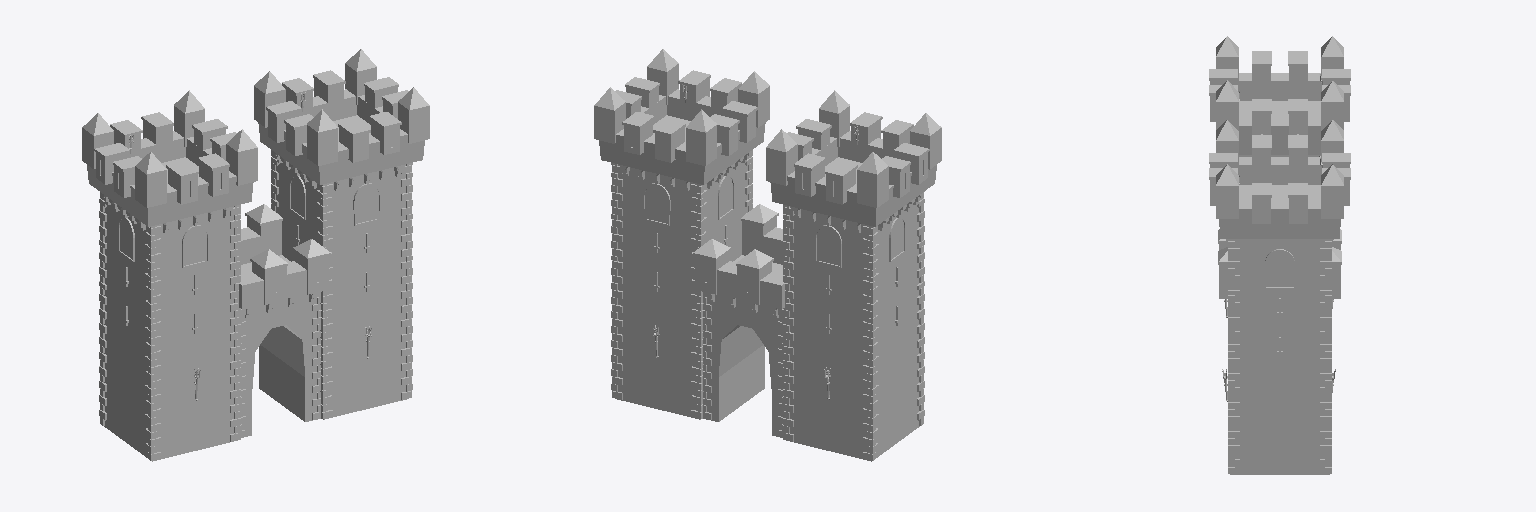
Rendered from EtranceWall.obj.
The picture shows the model from 3 angles: view 1: azimuth 30°, elevation 25°; view 2: azimuth 150°, elevation 25°; view 3: azimuth 270°, elevation 25°; orthographic projection.
Visible parts, largest first — view 1: Entrance_Cube.041; view 2: Entrance_Cube.041; view 3: Entrance_Cube.041.
Part boxes in pixels (left/top/right/bottom): Entrance_Cube.041: left=82, top=49, right=429, bottom=461; Entrance_Cube.041: left=594, top=49, right=941, bottom=461; Entrance_Cube.041: left=1209, top=36, right=1350, bottom=474.
Bounding box in the file's own units: 13.74 × 13.91 × 5.74.